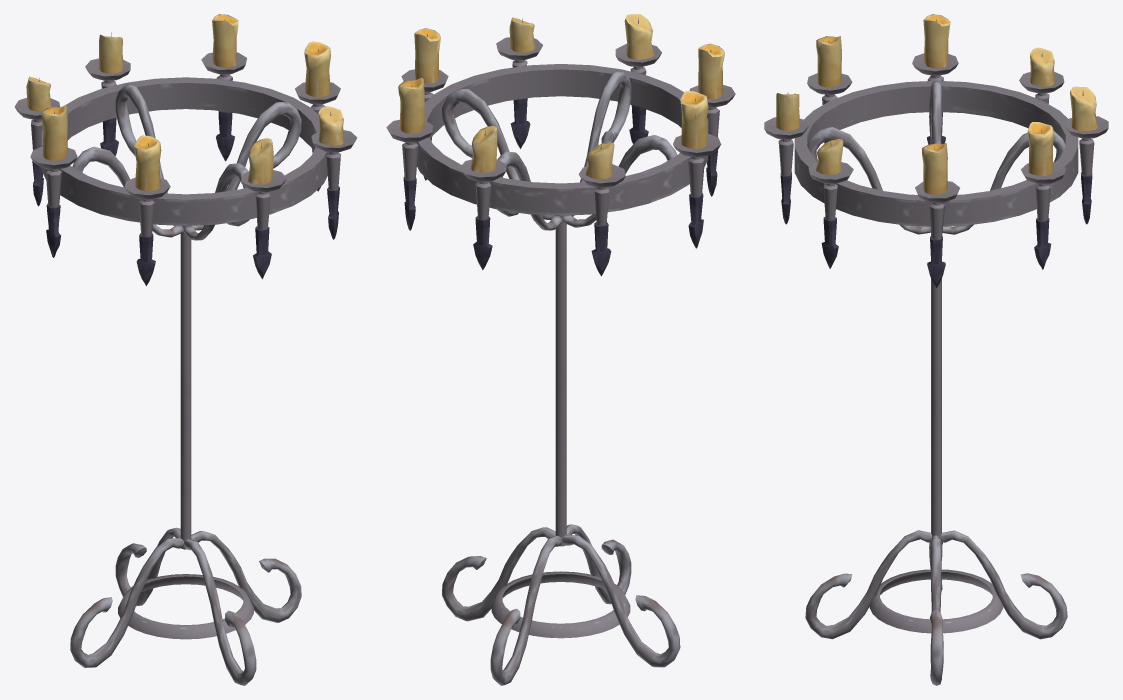
Rendered from candle_stick_stand.glb.
3 views of the same model, side by side, from view 1: azimuth 30°, elevation 25°; view 2: azimuth 150°, elevation 25°; view 3: azimuth 270°, elevation 25° (orthographic). The views are drawn at different scales.
Parts seen in each view (by area): view 1: CandleStick_Stand; view 2: CandleStick_Stand; view 3: CandleStick_Stand.
Part boxes in pixels (left/top/right/bottom): CandleStick_Stand: left=14, top=14, right=357, bottom=685; CandleStick_Stand: left=386, top=14, right=735, bottom=685; CandleStick_Stand: left=764, top=14, right=1108, bottom=685.
Bounding box in the file's own units: 0.7323 × 1.31 × 0.7313.
2 materials, 2 textured.
